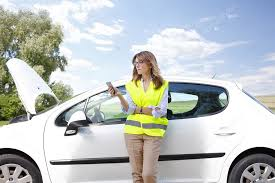NoHardhat: (124, 49, 170, 138)
